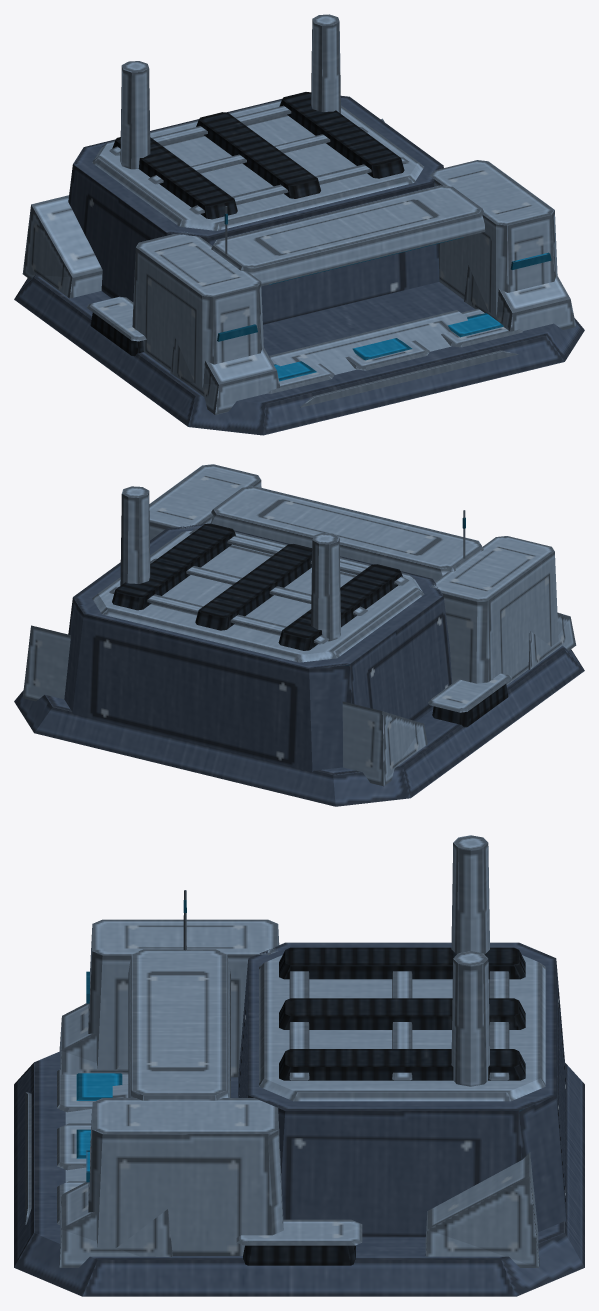
Rendered from building-factory.fbx.
The picture shows the model from 3 angles, top to bottom: view 1: azimuth 30°, elevation 25°; view 2: azimuth 150°, elevation 25°; view 3: azimuth 270°, elevation 25°; orthographic projection. The views are drawn at different scales.
Parts seen in each view (by area): view 1: building-factory; view 2: building-factory; view 3: building-factory.
Boxes of the visible parts, left/top/right/bottom form: building-factory: left=14, top=14, right=584, bottom=435; building-factory: left=14, top=464, right=584, bottom=806; building-factory: left=14, top=835, right=584, bottom=1296.
Size of the model in its own units: 2912 by 1550 by 2912.
1 material, 1 textured.
